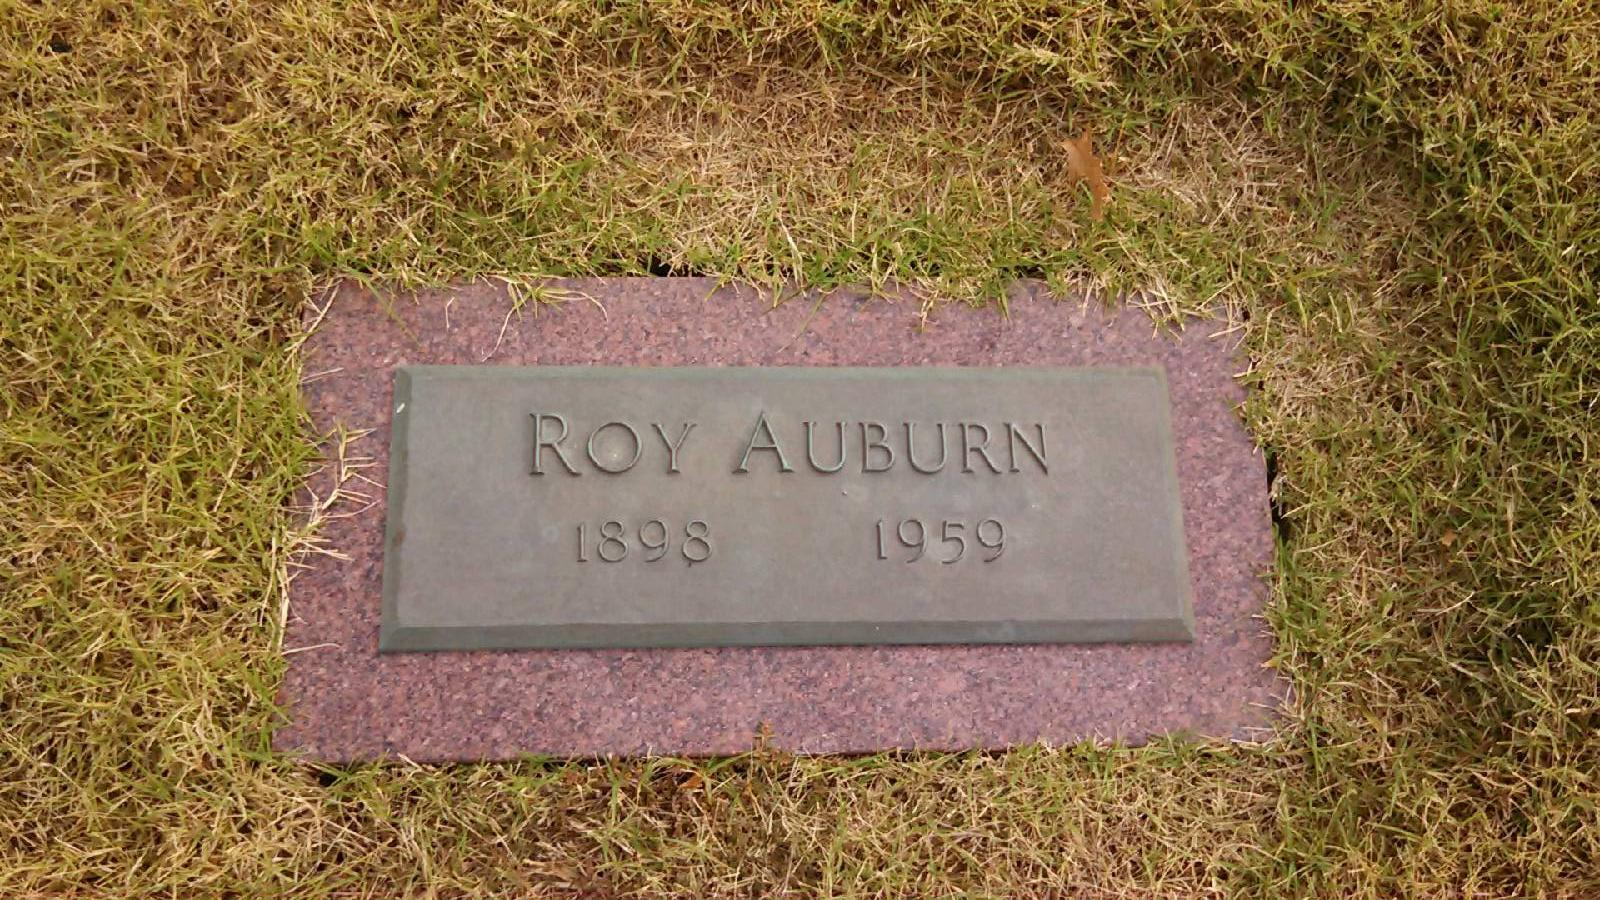flat: (300, 269, 1305, 762)
